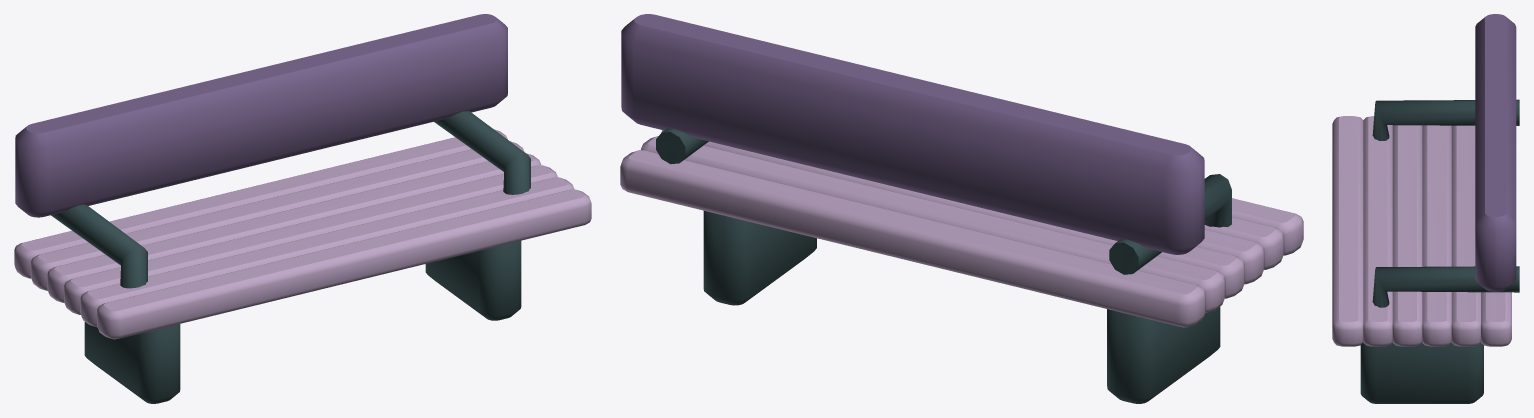
File: bench_4.glb
3 renders of one model, left to right at view 1: azimuth 30°, elevation 25°; view 2: azimuth 150°, elevation 25°; view 3: azimuth 270°, elevation 25°, orthographic. The views are drawn at different scales.
Parts seen in each view (by area): view 1: Bench; view 2: Bench; view 3: Bench.
Part boxes in pixels (box(x1,y1,x2,y2)): Bench: box(14, 14, 591, 403); Bench: box(620, 14, 1303, 403); Bench: box(1332, 14, 1519, 403).
Bounding box in the file's own units: 2.31 × 1.07 × 0.865.
